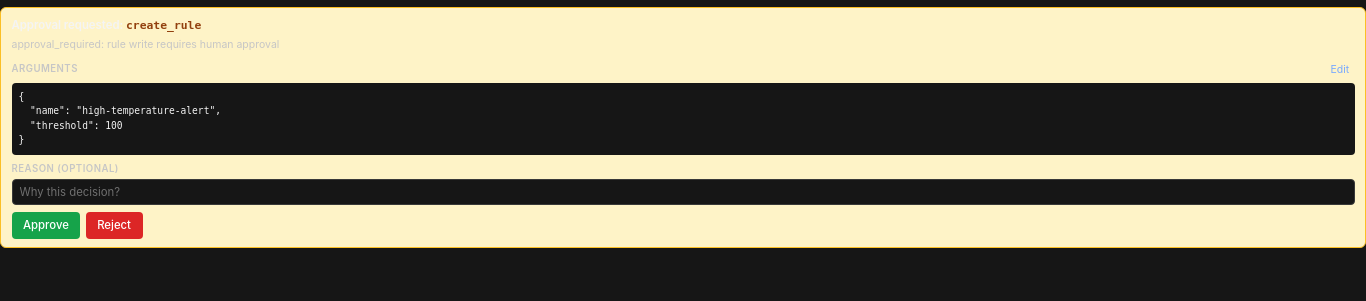
it: PendingApprovalSection › modify path › Edit toggles the JSON editor pre-filled with current arguments
Click the button with test id "approval-edit-args" at (1340, 70), box [1325,60,1354,79]
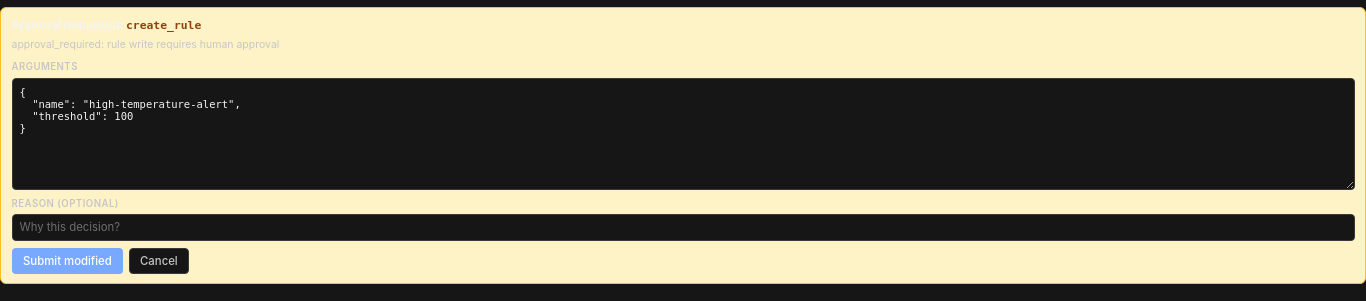
Expected: the text box with test id "approval-args-editor" is shown, [12,78,1354,190]
Expected: the button with test id "approval-approve" is gone
Expected: the button with test id "approval-submit-modify" is shown, [12,248,123,274]
